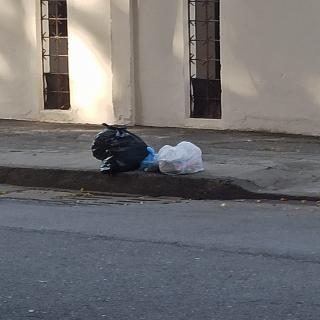Garbage: (91, 122, 152, 175), (157, 142, 209, 176), (142, 149, 167, 172)
